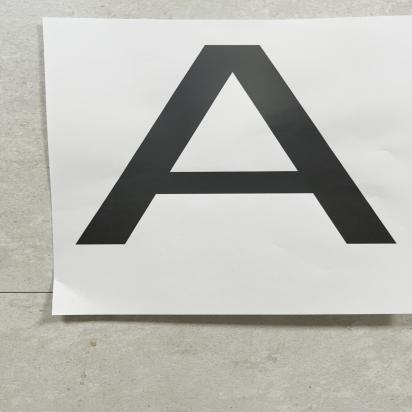seat: (56, 31, 412, 269)
